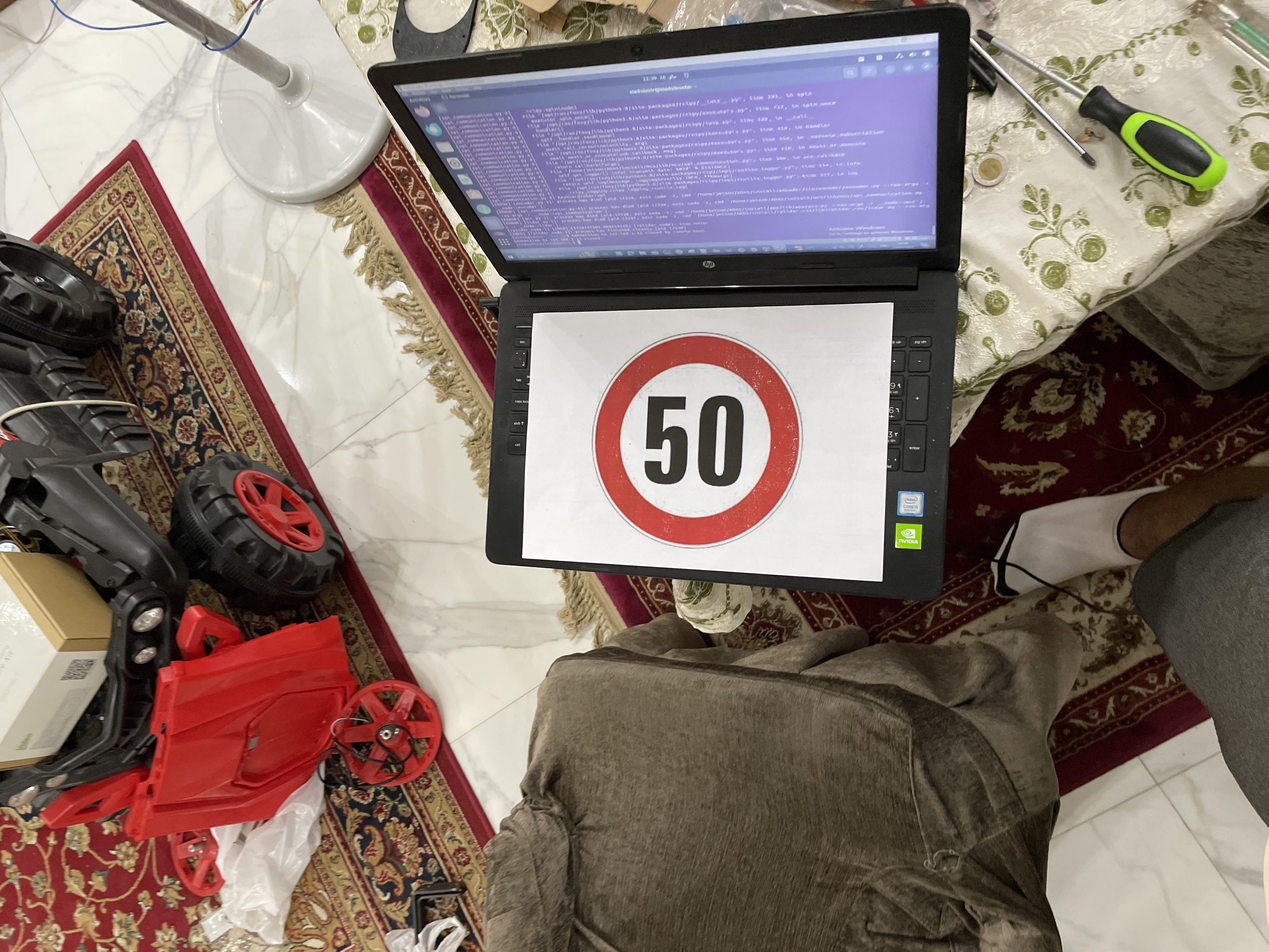50-Speed: (555, 437, 828, 598)
